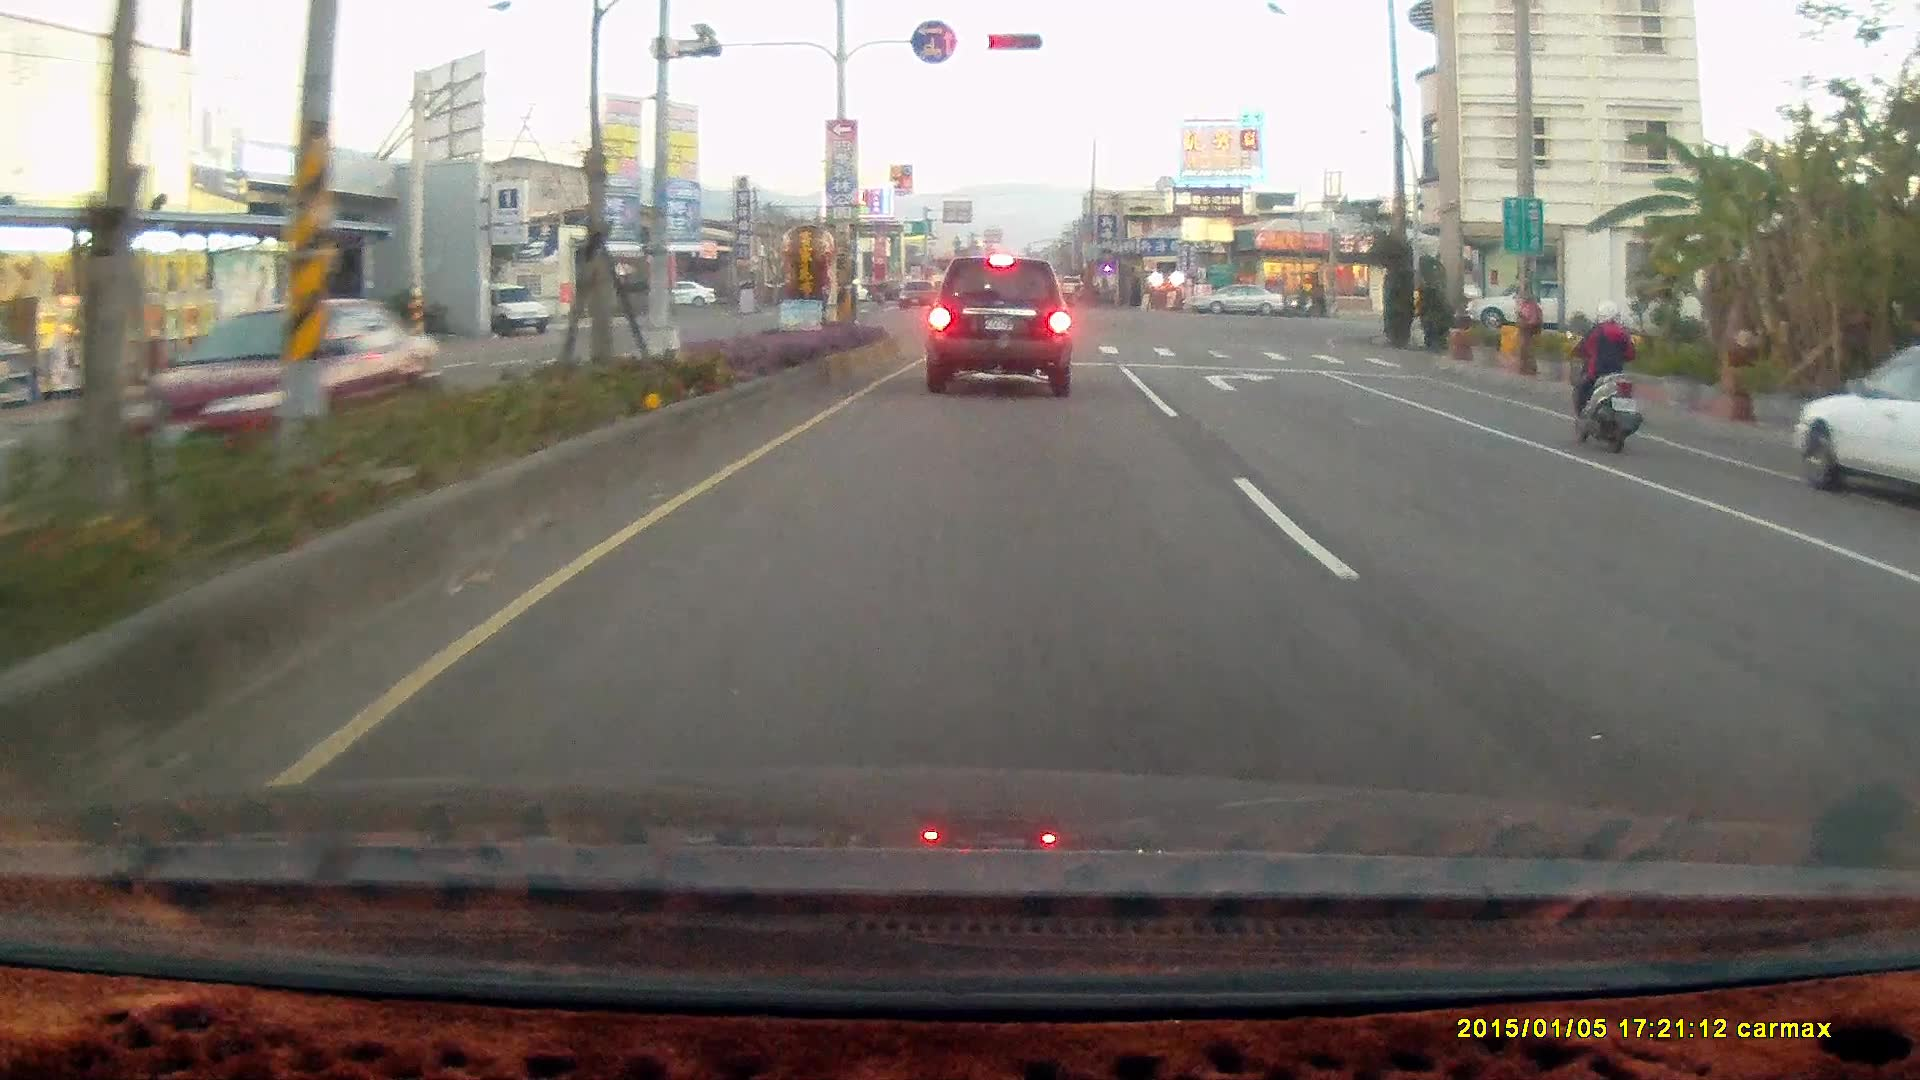rider: (1561, 297, 1643, 453), (1283, 281, 1313, 318)
vehicle: (1791, 347, 1920, 511), (925, 255, 1073, 397), (1896, 493, 1920, 836), (1463, 275, 1586, 332), (1883, 528, 1920, 690), (478, 282, 551, 337), (1186, 281, 1286, 318), (1185, 282, 1285, 316)
